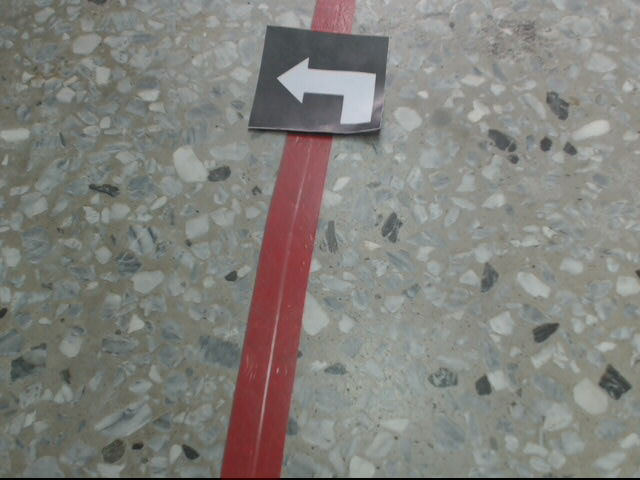left: (245, 25, 392, 135)
